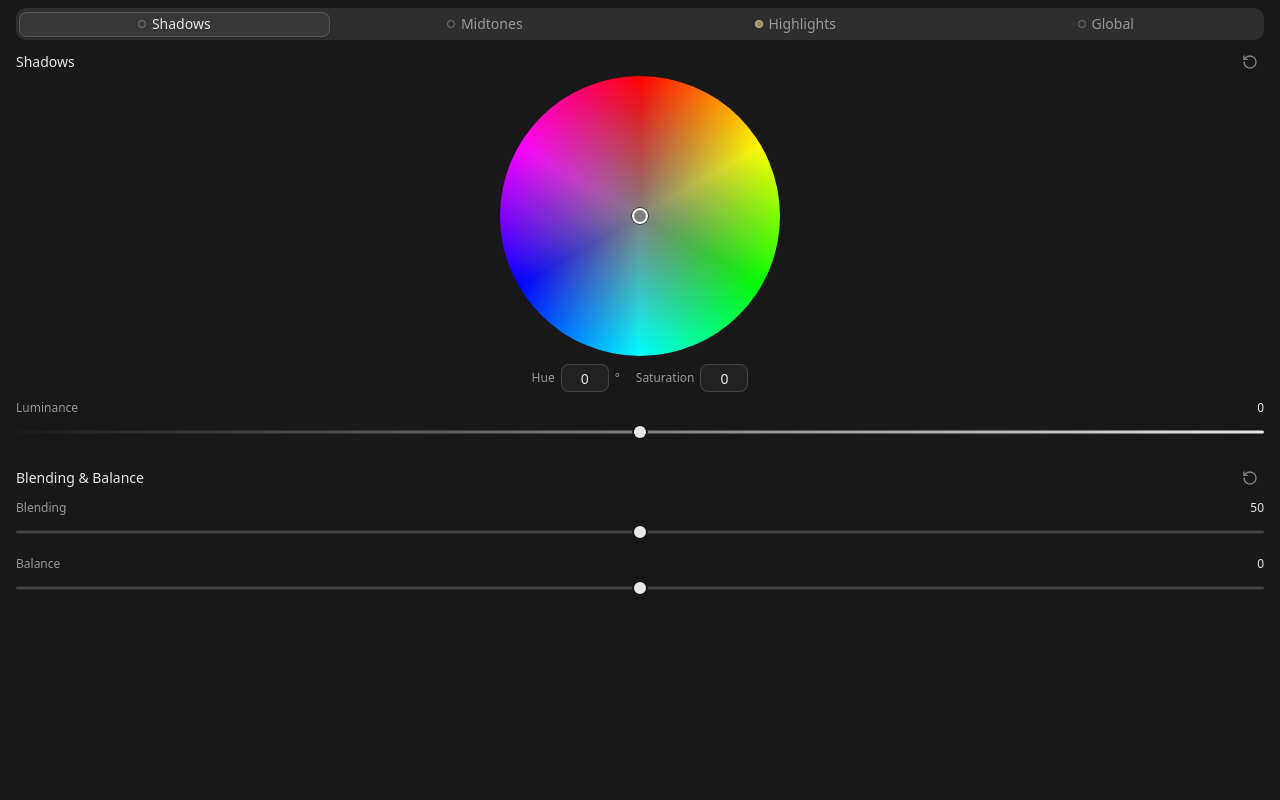
GradingPanel › renders English labels
Click the tab "Highlights".
click(795, 24)  # box left=640, top=12, right=950, bottom=36
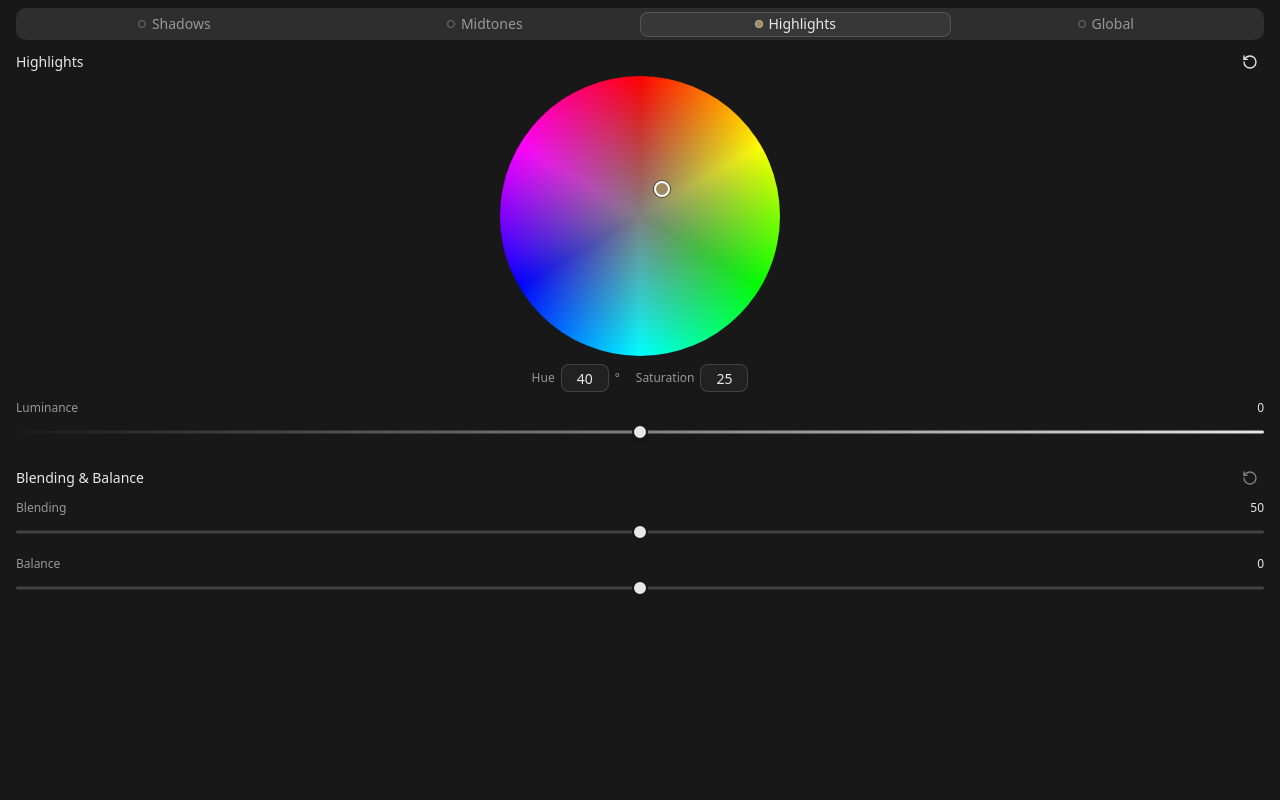
Check: the element named "Highlights wheel" is shown, box left=500, top=76, right=780, bottom=356
Check: the field labelled "Hue" holds "40", box left=561, top=364, right=609, bottom=392
Check: the button named "Reset Highlights" is enabled, box left=1236, top=48, right=1264, bottom=76
